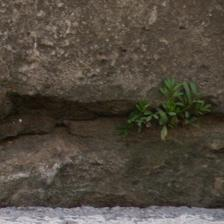Crack: (2, 42, 217, 104)
